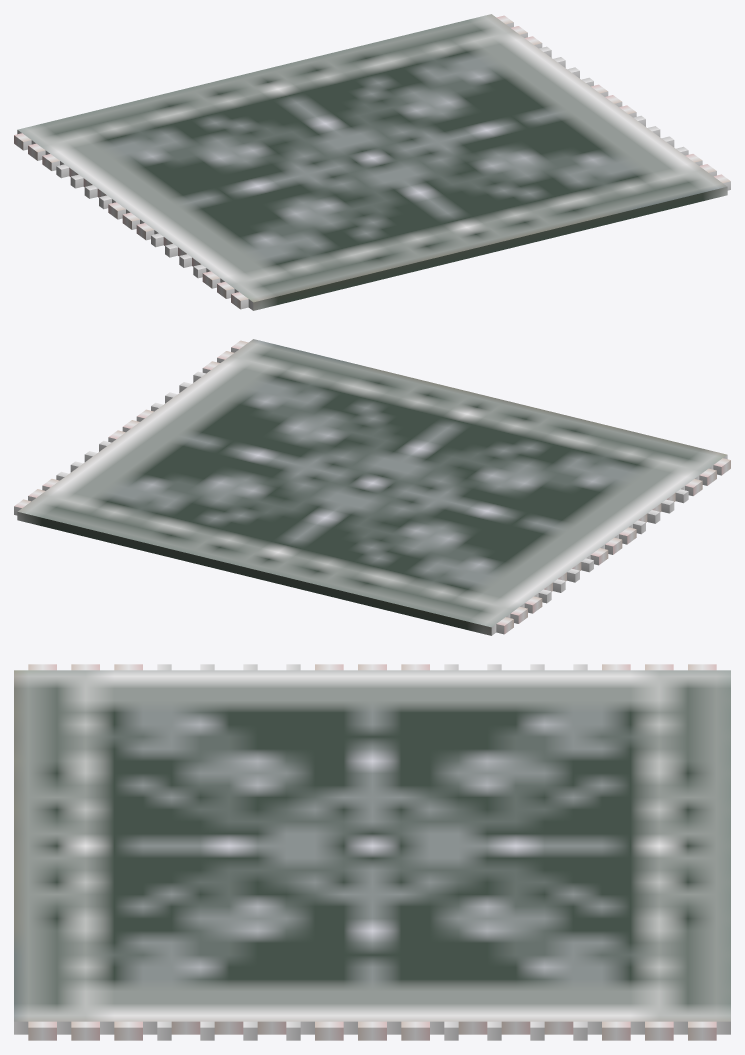
The model's file is CarpetDarkGreen_00.obj.
The picture shows the model from 3 angles, top to bottom: view 1: azimuth 30°, elevation 25°; view 2: azimuth 150°, elevation 25°; view 3: azimuth 270°, elevation 25°; orthographic projection. The views are drawn at different scales.
Visible parts, largest first — view 1: CarpetDarkGreen_00; view 2: CarpetDarkGreen_00; view 3: CarpetDarkGreen_00.
Boxes of the visible parts, box(x1,y1,x2,y2) form: CarpetDarkGreen_00: box(14, 14, 730, 310); CarpetDarkGreen_00: box(14, 339, 730, 635); CarpetDarkGreen_00: box(14, 664, 730, 1040).
Bounding box in the file's own units: 3 × 0.05 × 2.5.
